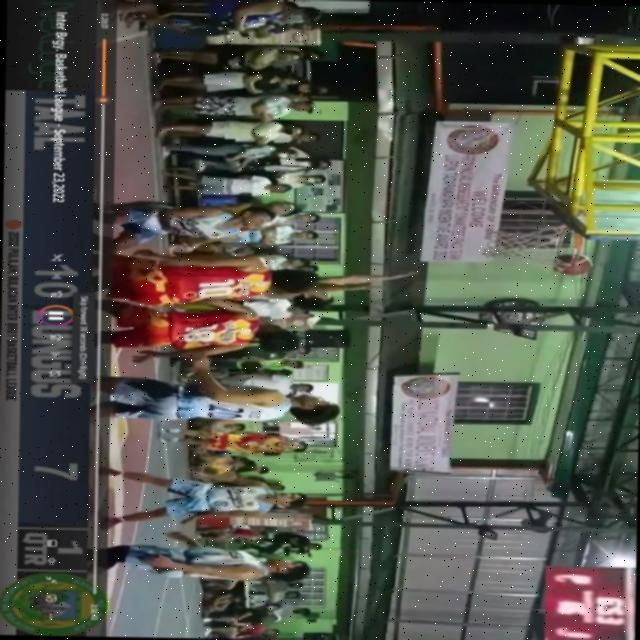ball: (556, 252, 596, 280)
hoop: (557, 222, 580, 270)
